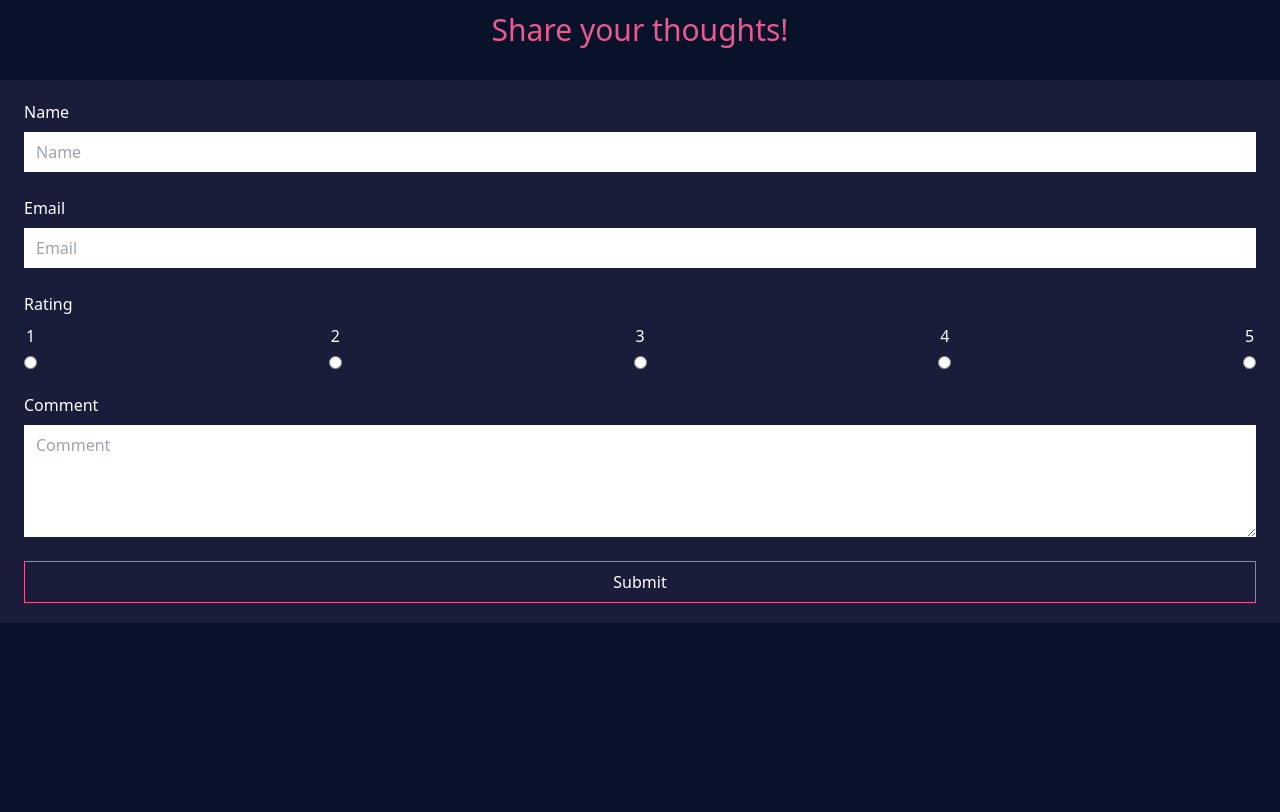
Test case: <FeedbackForm /> › shows error when Email is not entered in proper format
In the field with test id "email": (640,248) [24,228,1256,268], type "test@"
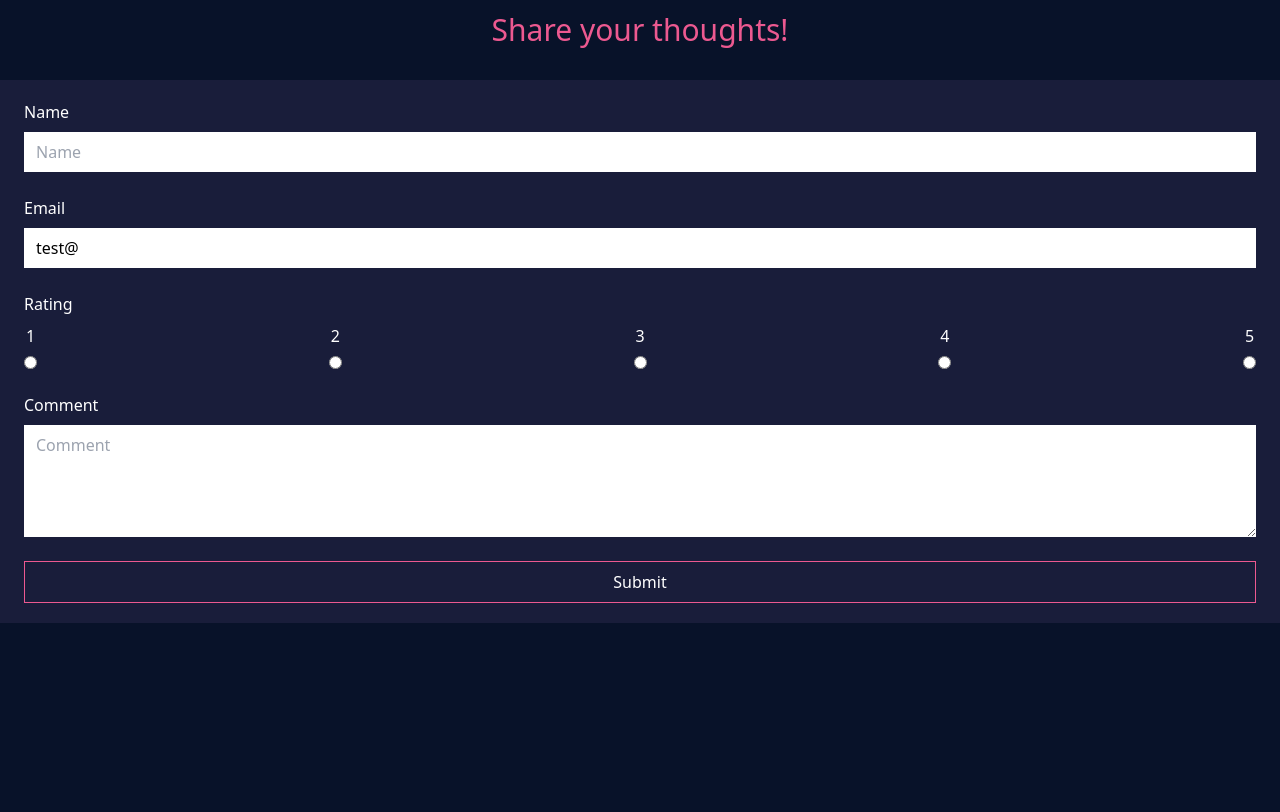
Submit the form from the button "Submit", box [24,561,1256,603]
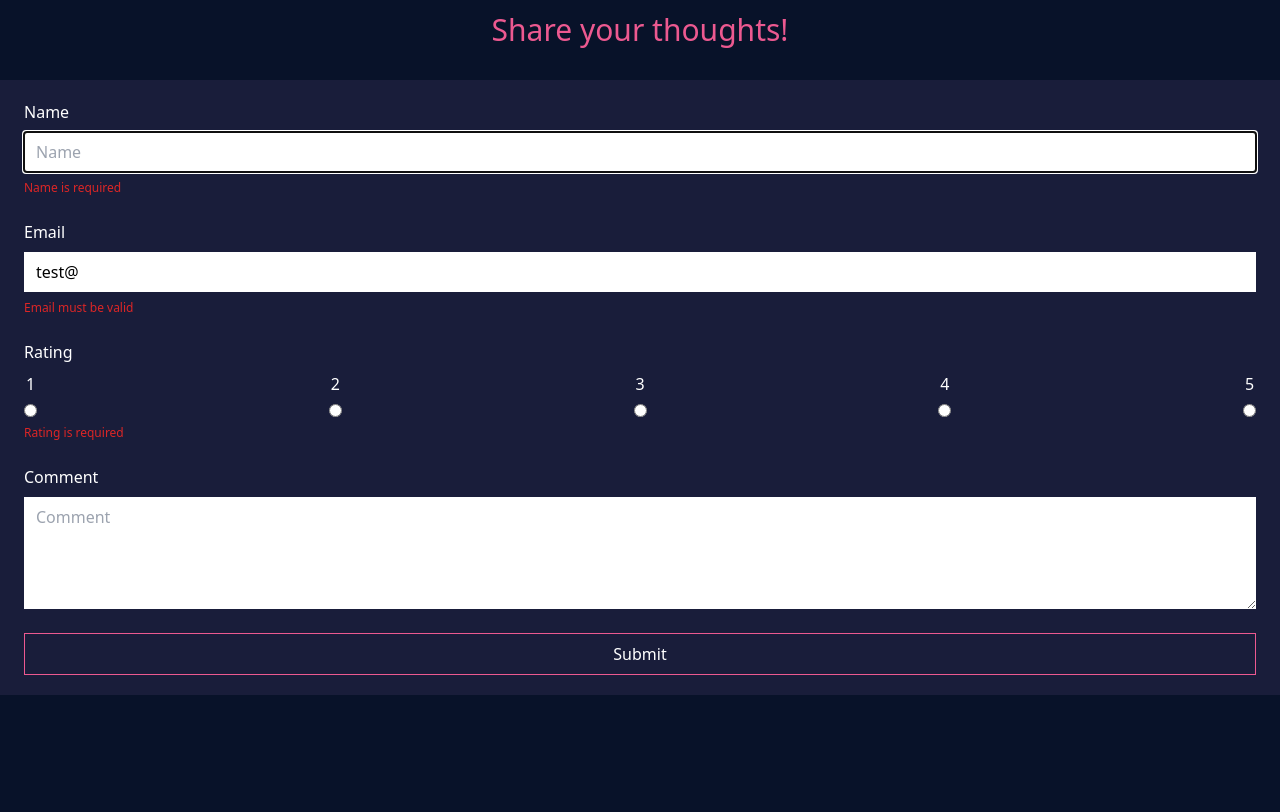
Check: the text "Email must be valid" is shown, box [24,299,134,316]
